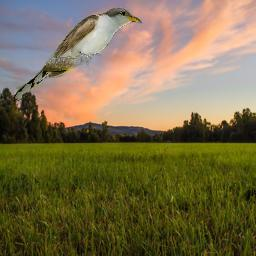Cuckoo: (10, 6, 144, 103)
